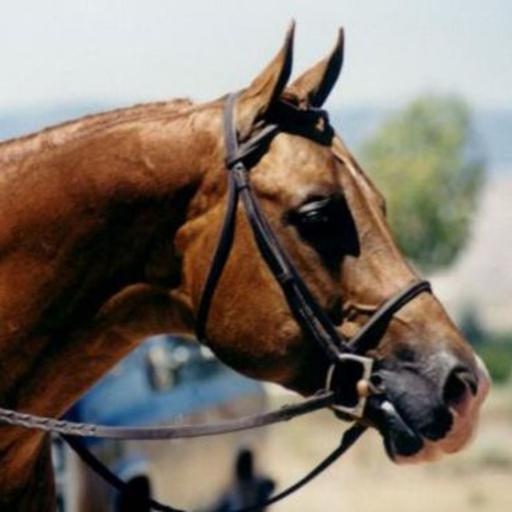horse: (0, 13, 495, 511)
